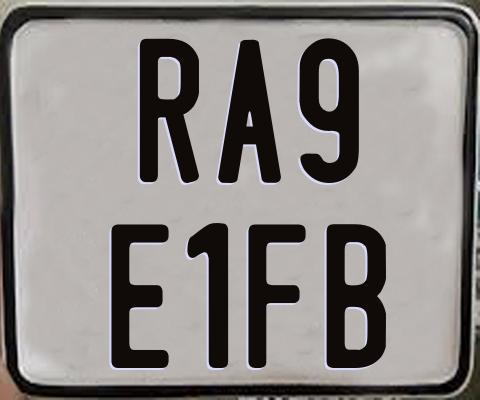1: (186, 220, 228, 367)
9: (299, 35, 359, 180)
A: (217, 37, 286, 184)
B: (325, 221, 385, 367)
E: (109, 221, 173, 366)
F: (248, 222, 310, 368)
R: (138, 39, 203, 187)
